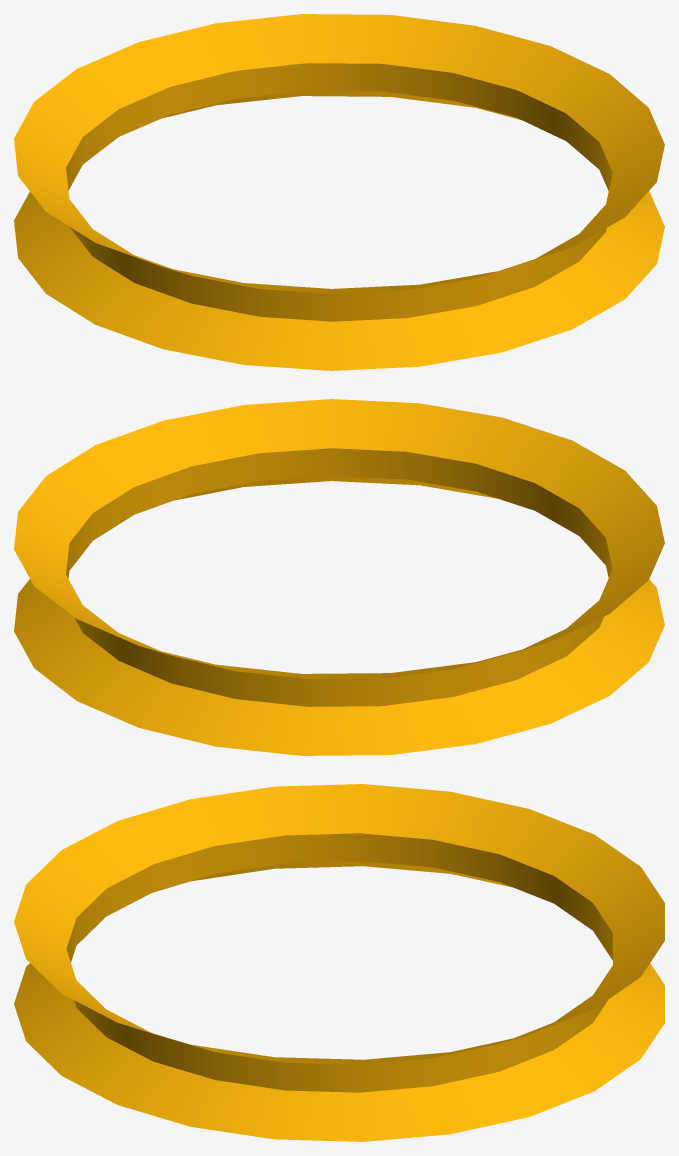
The model's file is UnionSuelta.fbx.
3 views of the same model, one above another, from view 1: azimuth 30°, elevation 25°; view 2: azimuth 150°, elevation 25°; view 3: azimuth 270°, elevation 25° (orthographic).
Visible parts, largest first — view 1: Tube001; view 2: Tube001; view 3: Tube001.
Part boxes in pixels (x1=…): Tube001: x1=14, y1=14, x2=664, y2=370; Tube001: x1=14, y1=399, x2=664, y2=755; Tube001: x1=14, y1=784, x2=664, y2=1141.
Size of the model in its own units: 506 by 70.29 by 504.
